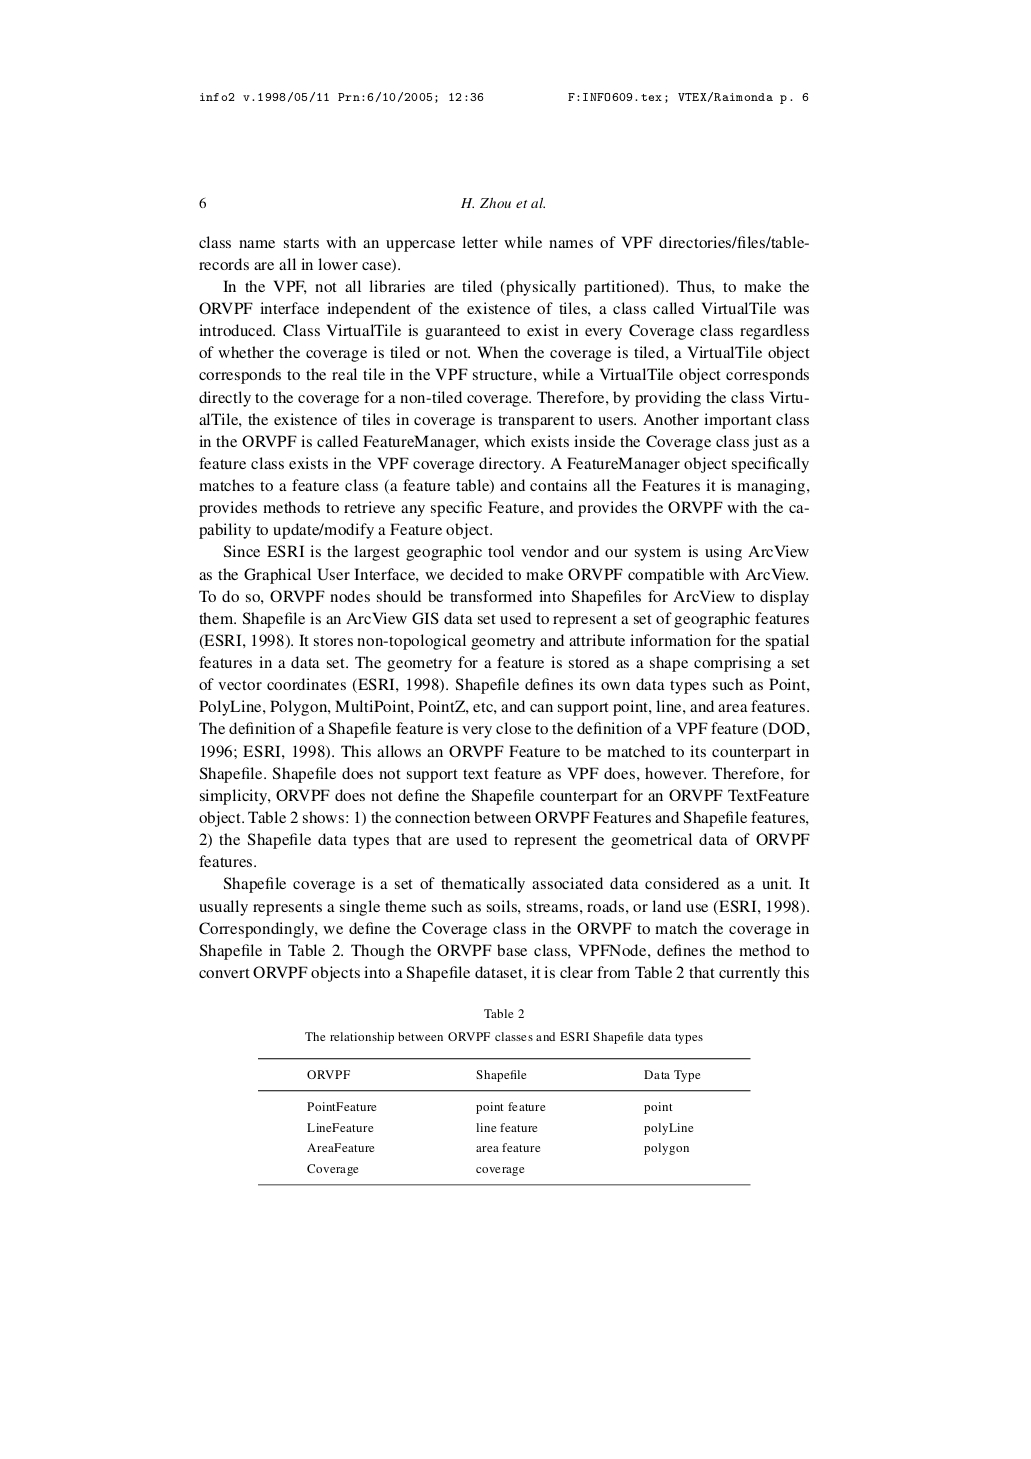Table: (258, 1059, 750, 1185)
